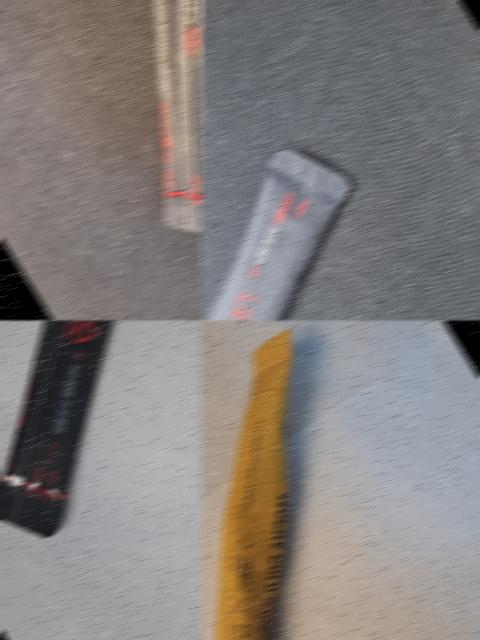KANU: (0, 320, 202, 590), (200, 113, 442, 320), (29, 0, 202, 278)
mix_coffee: (199, 320, 480, 640)
